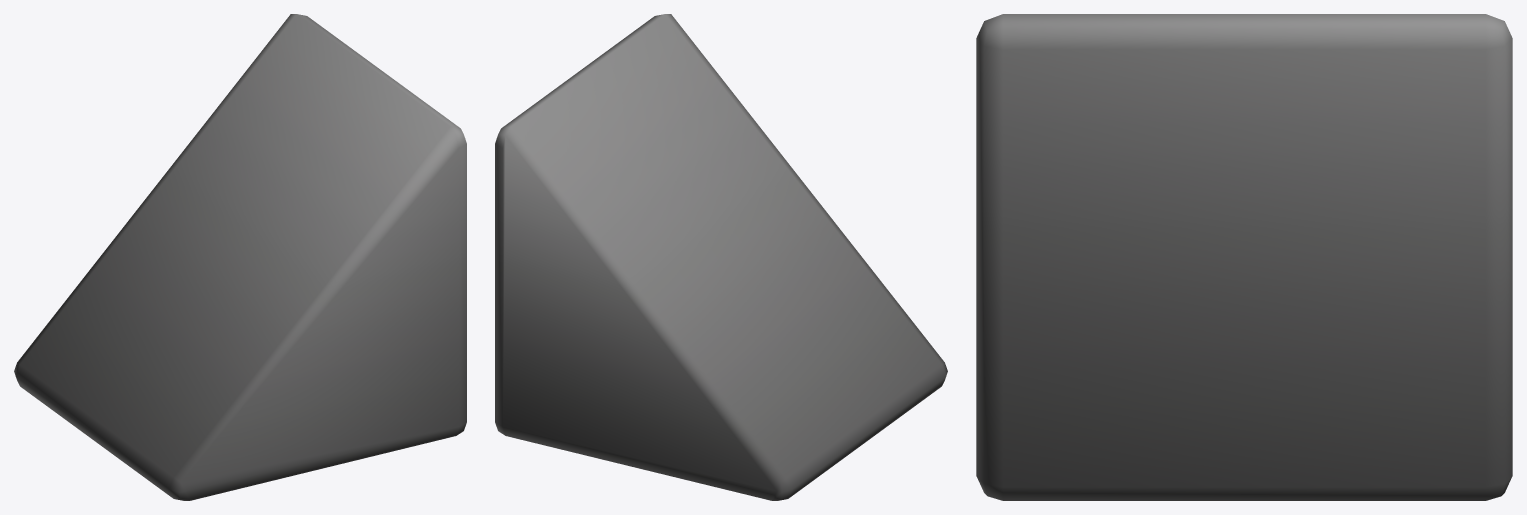
The model's file is 3D_Tile_Dungeon_Slope_01.glb.
3 views of the same model, side by side, from view 1: azimuth 30°, elevation 25°; view 2: azimuth 150°, elevation 25°; view 3: azimuth 270°, elevation 25° (orthographic). The views are drawn at different scales.
Visible parts, largest first — view 1: 3D_Tile_Dungeon_Slope_01; view 2: 3D_Tile_Dungeon_Slope_01; view 3: 3D_Tile_Dungeon_Slope_01.
Boxes of the visible parts, x1,y1,x2,y2 form: 3D_Tile_Dungeon_Slope_01: (14, 14, 466, 500); 3D_Tile_Dungeon_Slope_01: (495, 14, 947, 500); 3D_Tile_Dungeon_Slope_01: (976, 14, 1512, 500).
Bounding box in the file's own units: 2 × 2 × 2.
1 material, 1 textured.
